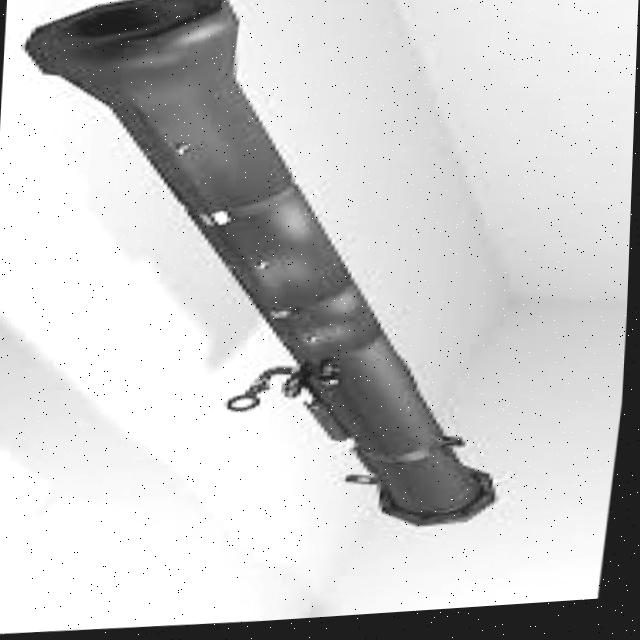rocket: (0, 0, 558, 556)
